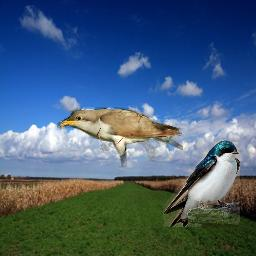Cuckoo: (57, 107, 183, 167)
Swallow: (163, 140, 240, 227)
